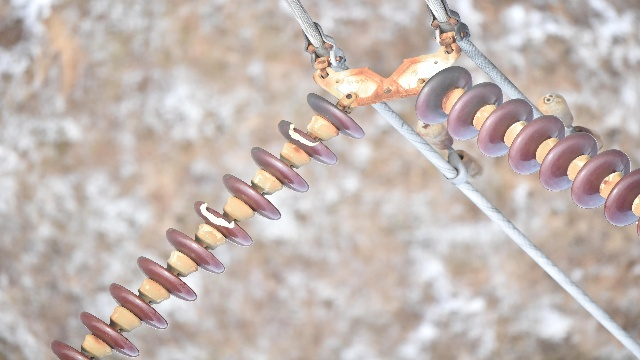broken_local: (199, 199, 235, 231), (287, 121, 320, 149)
insulator_unspecified: (53, 92, 365, 359), (415, 67, 639, 236)
